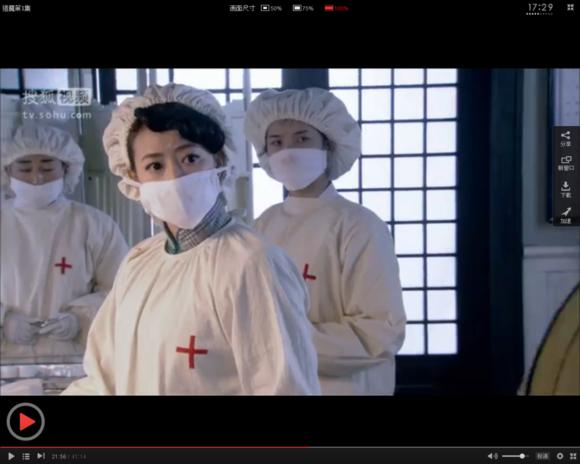OK: (143, 141, 218, 216), (262, 127, 319, 184)
WRONG: (5, 157, 66, 209)
